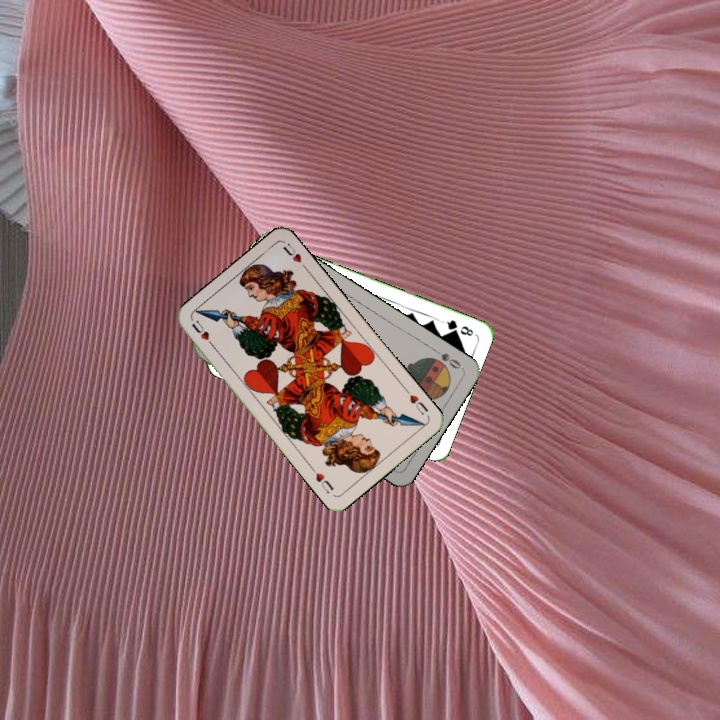G8: (439, 315, 476, 339)
HU: (187, 316, 218, 351), (401, 385, 431, 418)
SO: (429, 345, 465, 372)
